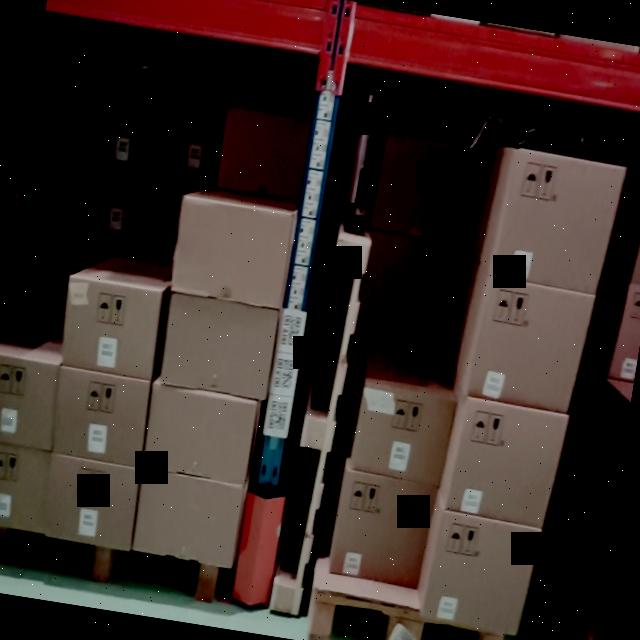box: (499, 150, 614, 292), (468, 278, 590, 411), (448, 402, 562, 524), (170, 200, 293, 308), (427, 516, 534, 634), (330, 474, 438, 586), (161, 296, 277, 400), (142, 384, 258, 484), (358, 234, 456, 348), (374, 136, 473, 242), (352, 386, 454, 486), (48, 368, 151, 467), (134, 475, 242, 566), (62, 281, 162, 378), (218, 111, 311, 203), (47, 459, 139, 548), (86, 92, 166, 175), (0, 352, 61, 450), (0, 441, 56, 535), (159, 102, 226, 180), (82, 168, 154, 235)
